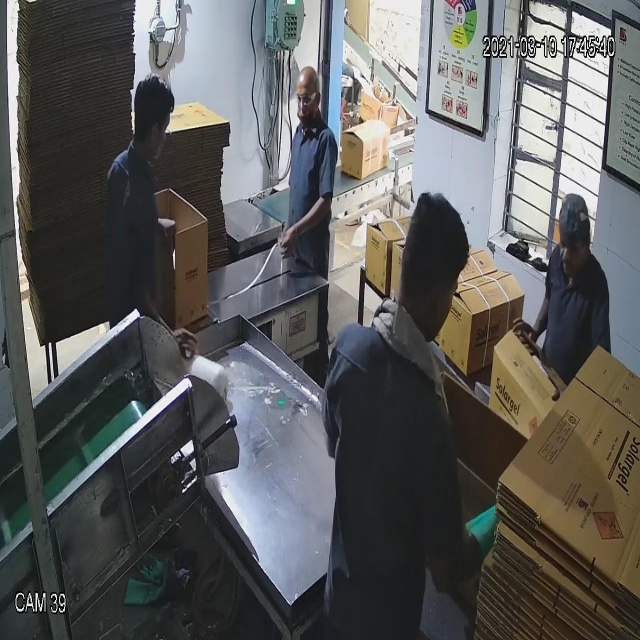Sin_guantes: (269, 178, 341, 267), (505, 291, 553, 364)
